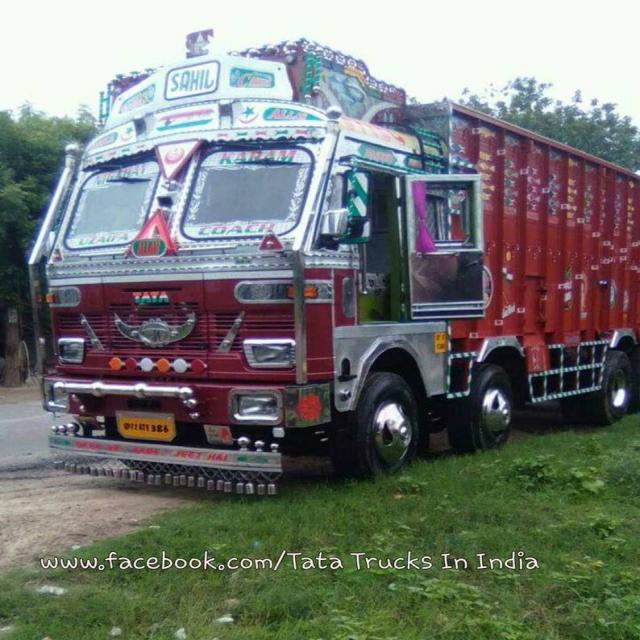truck: (25, 24, 640, 474)
